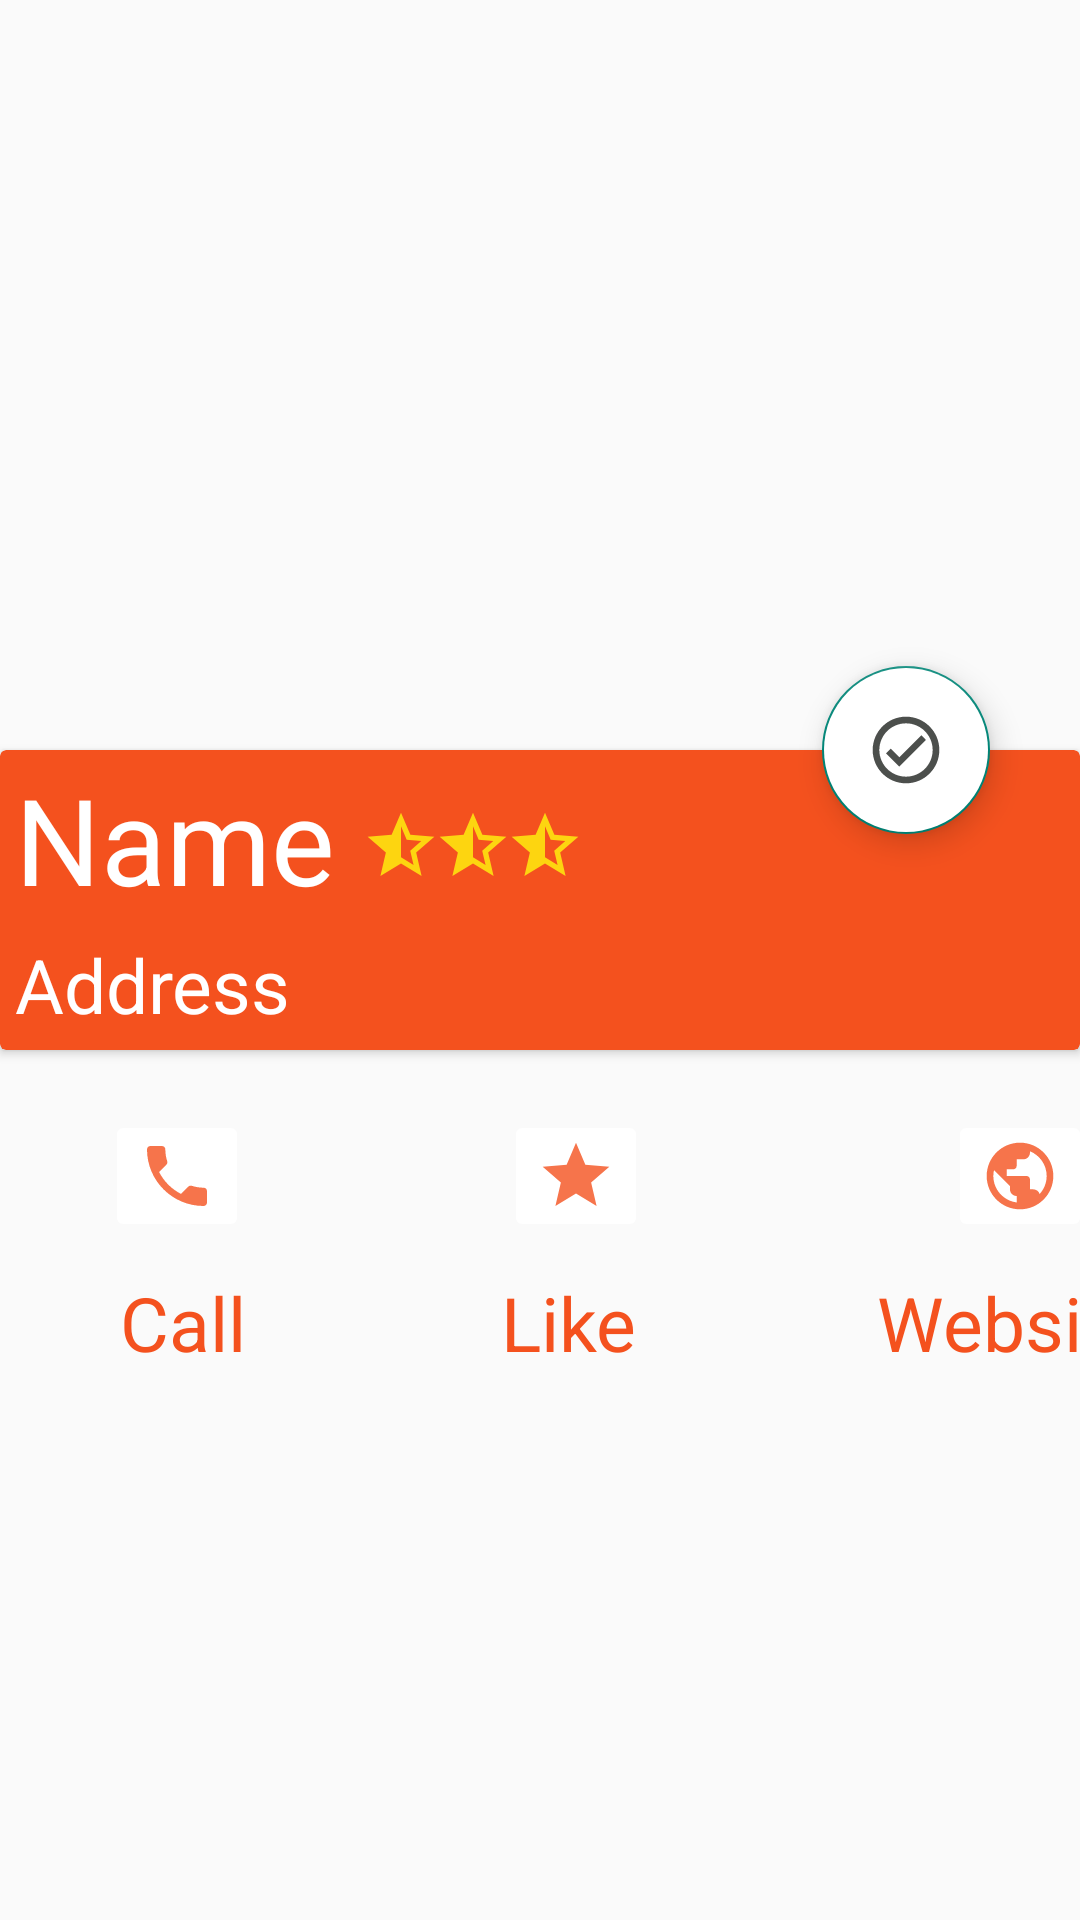

Icons on this 1080×1920 Android screen, each with the point to tap as (x=x, y=y):
details phone: (x=177, y=1176)
details public: (x=1020, y=1176)
one star half: (x=401, y=844), (x=473, y=844), (x=545, y=844)
restaurant is check: (x=906, y=750)
